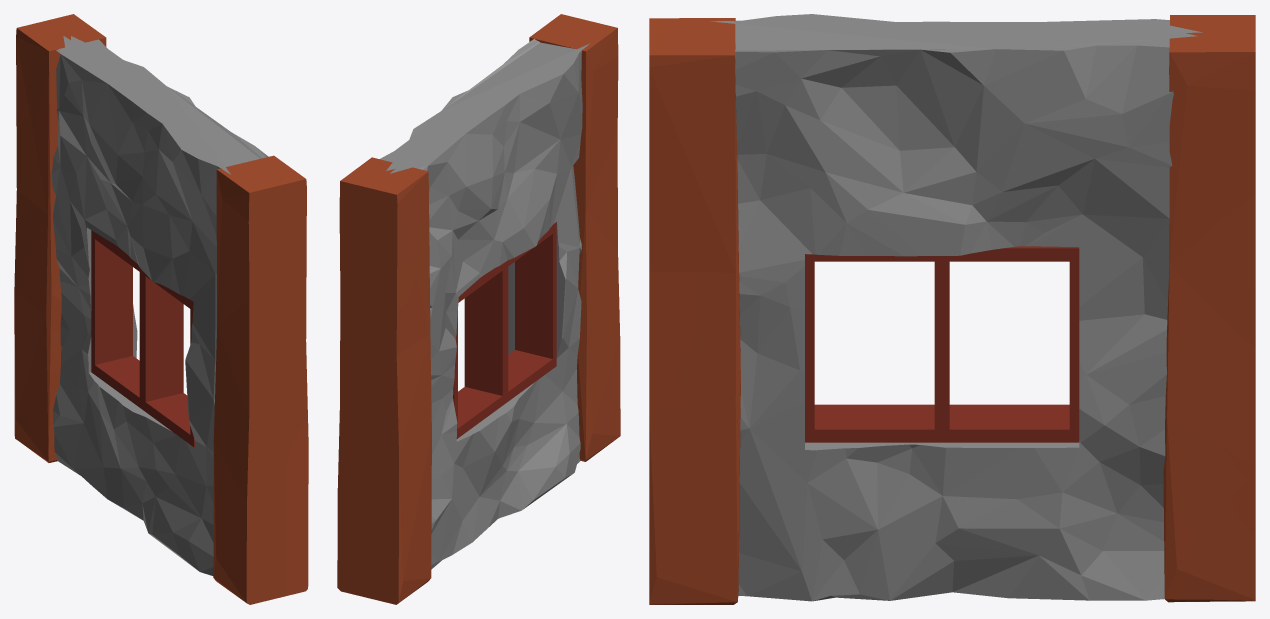
Rendered from Stone wall_Window.fbx.
3 renders of one model, left to right at view 1: azimuth 30°, elevation 25°; view 2: azimuth 150°, elevation 25°; view 3: azimuth 270°, elevation 25°, orthographic. The views are drawn at different scales.
Visible parts, largest first — view 1: Stone wall_Window; view 2: Stone wall_Window; view 3: Stone wall_Window.
Part boxes in pixels (left/top/right/bottom): Stone wall_Window: left=14, top=14, right=308, bottom=604; Stone wall_Window: left=337, top=14, right=620, bottom=604; Stone wall_Window: left=649, top=14, right=1255, bottom=604.
Bounding box in the file's own units: 0.5254 × 3 × 3.
